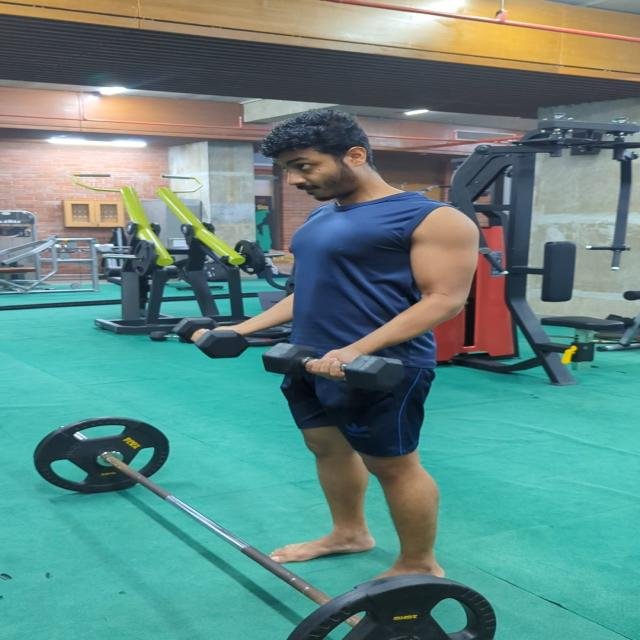Normal_DumbbellBicepCurls: (178, 104, 482, 600)
